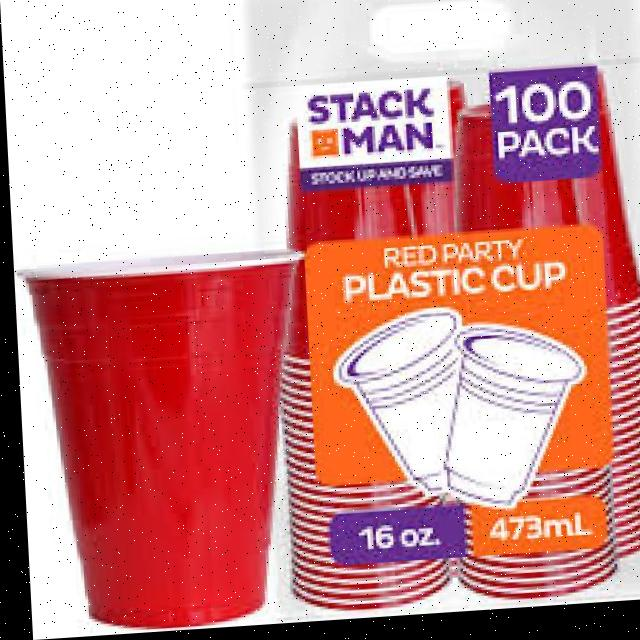cup: (11, 233, 332, 640)
